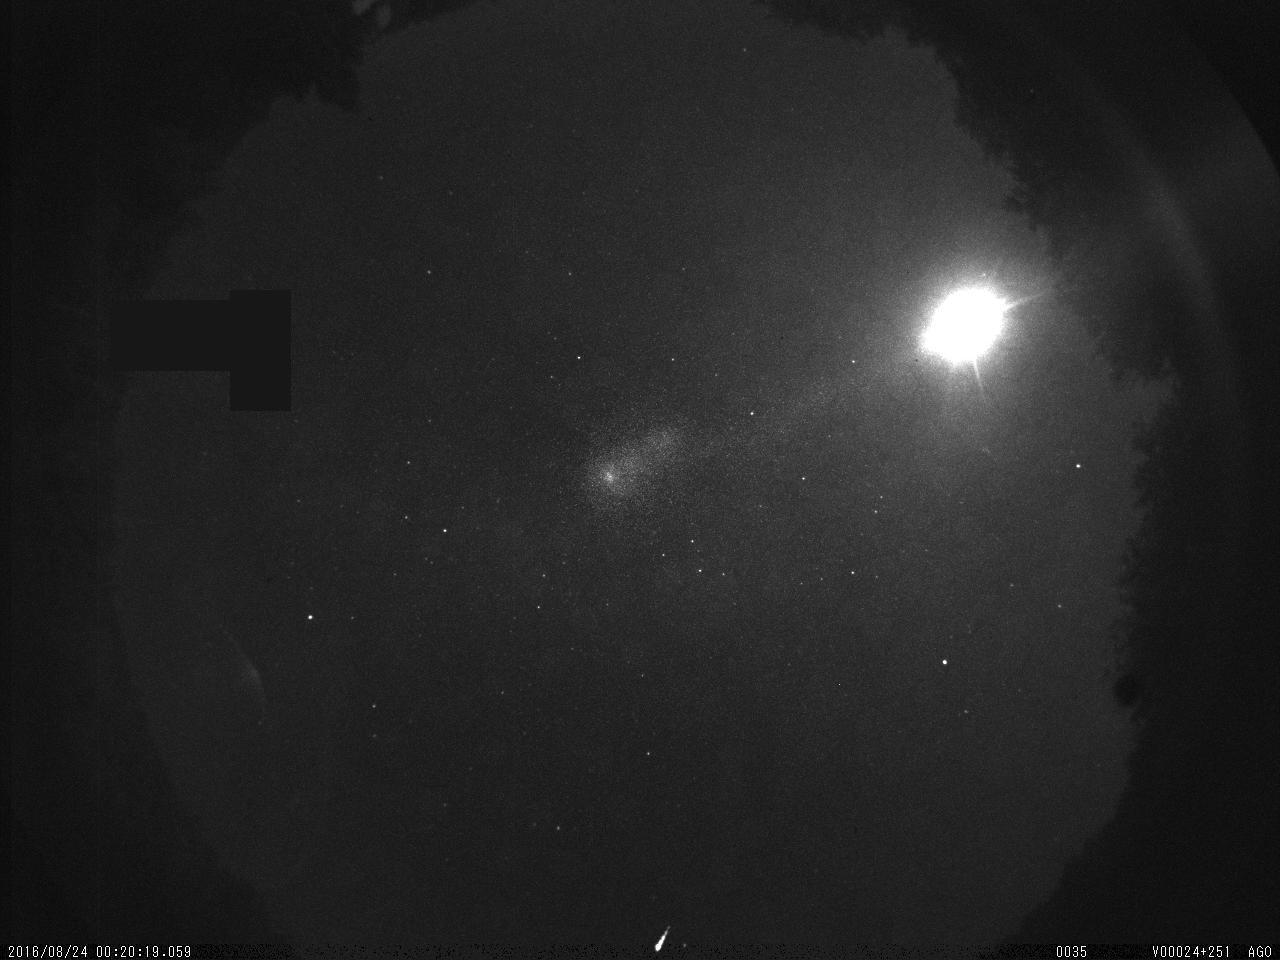meteor: (646, 918, 677, 959)
